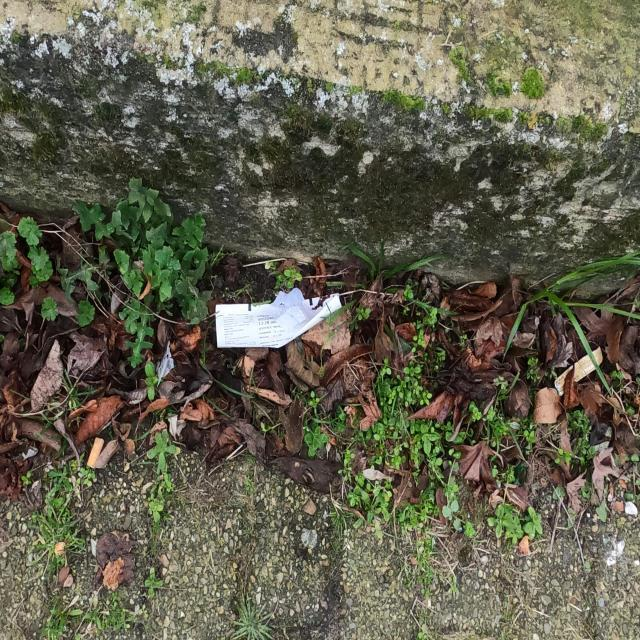Paper: (212, 290, 352, 363)
